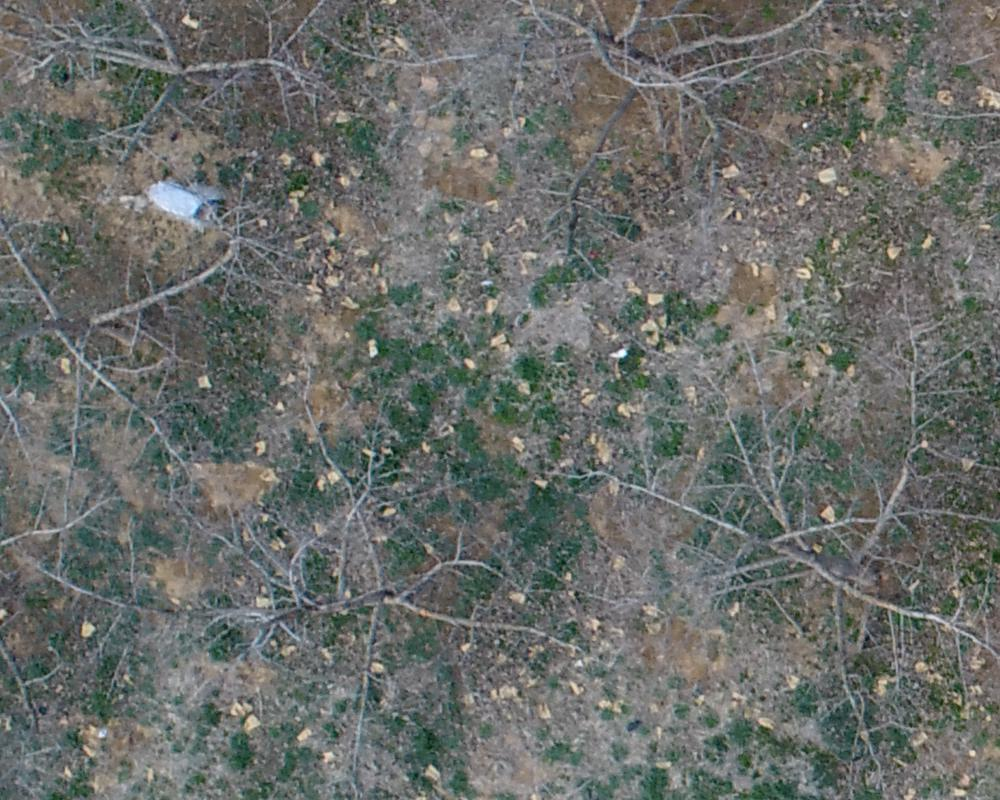apple: (10, 400, 612, 781), (538, 325, 990, 790), (408, 10, 867, 280), (10, 101, 312, 496), (10, 10, 474, 179)
